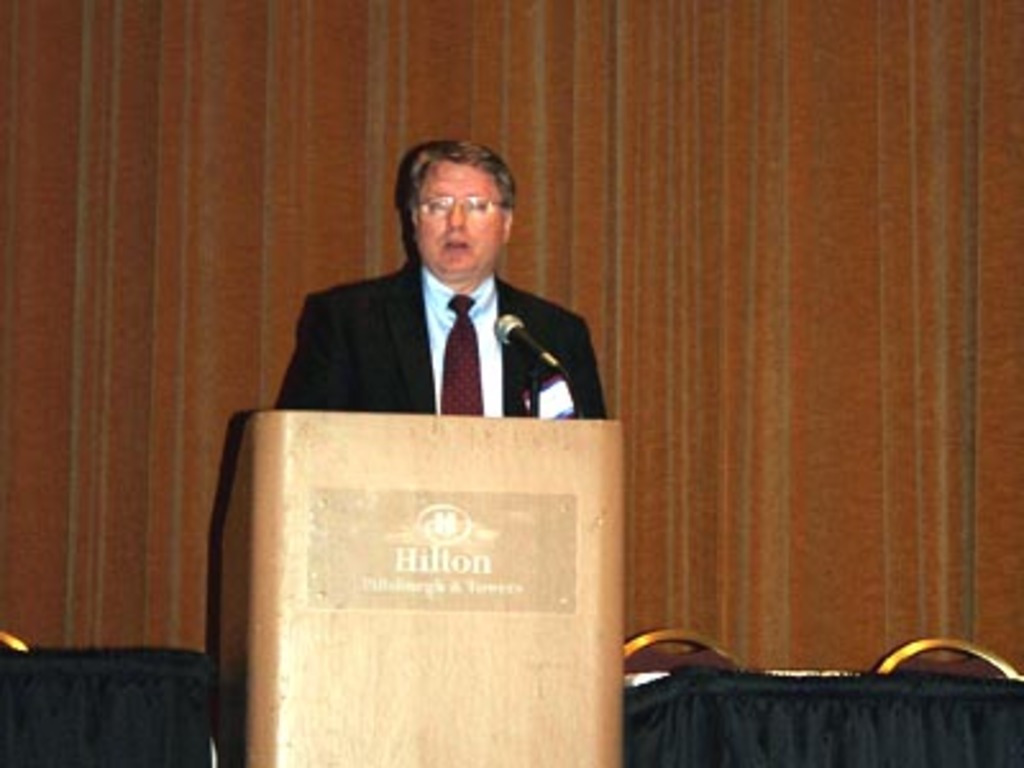person: (272, 136, 612, 421)
